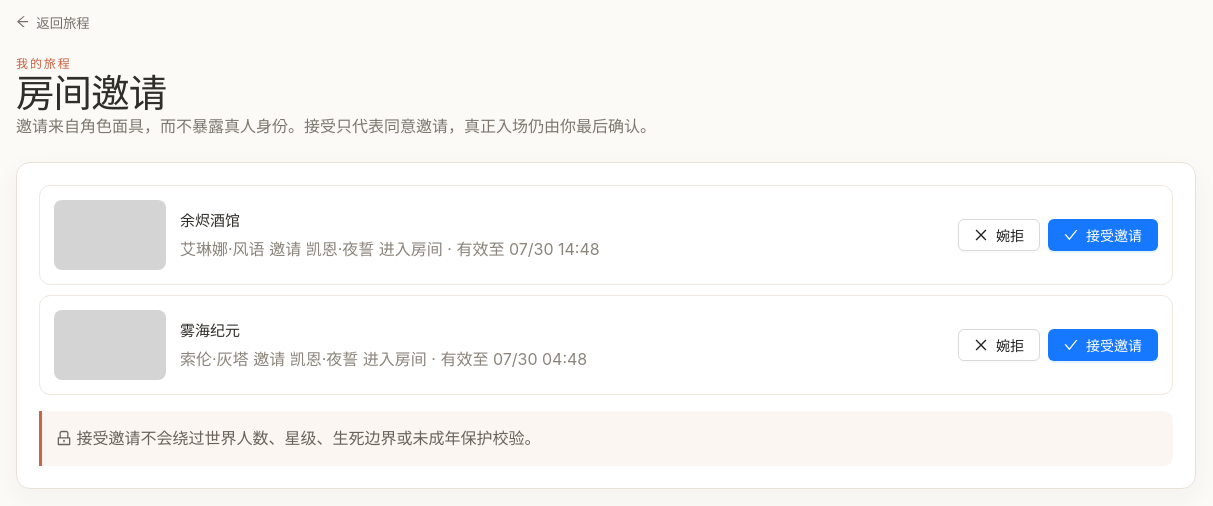
Scenario: 我的旅程设计预览 › 接受邀请后明确要求再完成世界入场
Click the button "接受邀请" in the row of "07/30 14:48" at point(1103, 235), box [1048,219,1158,251]
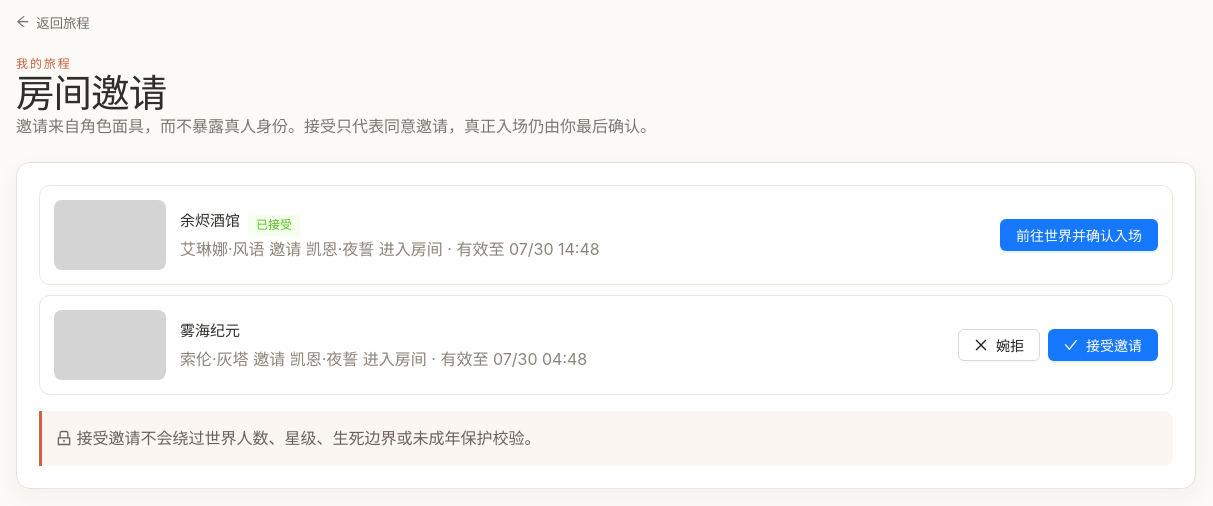
Now the button "前往世界并确认入场" is shown, box [1000,219,1158,251]
Now the text "已接受" is shown, box [248,214,300,236]
